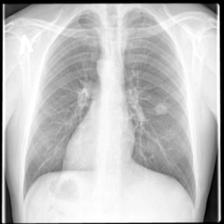tuberculosis: (19, 7, 200, 213)
